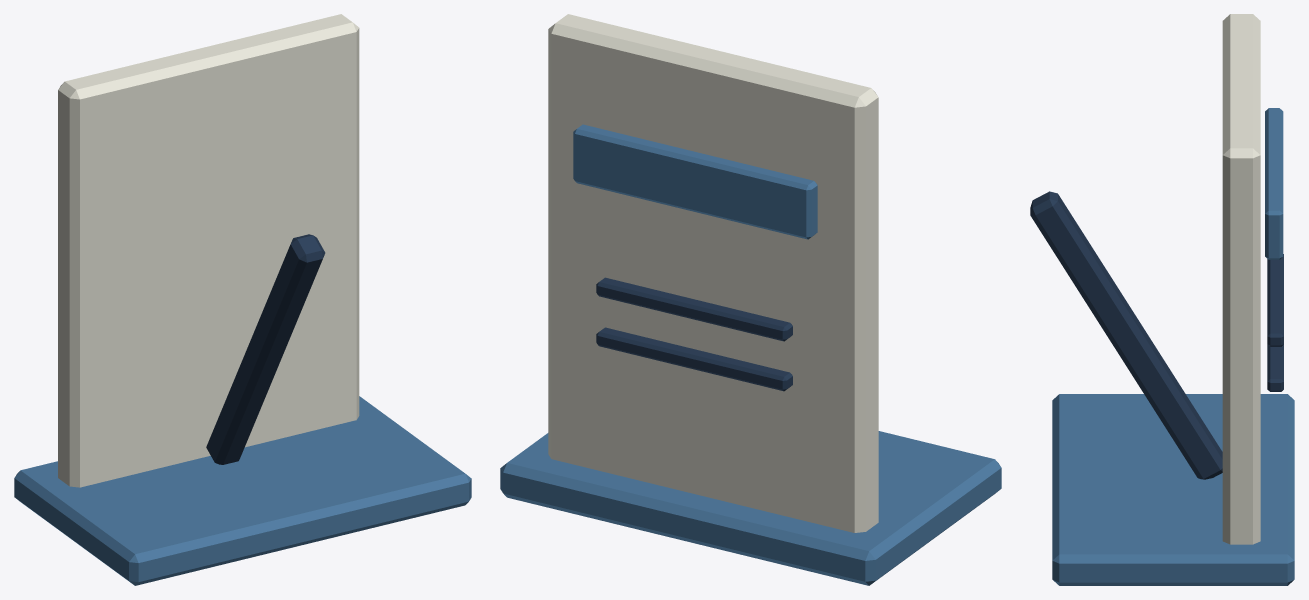
The model's file is countertop_menu_stand.glb.
The picture shows the model from 3 angles, left to right: view 1: azimuth 30°, elevation 25°; view 2: azimuth 150°, elevation 25°; view 3: azimuth 270°, elevation 25°; orthographic projection. The views are drawn at different scales.
Visible parts, largest first — view 1: menu_panel, menu_base, menu_rear_leg; view 2: menu_panel, menu_base, menu_panel_header, menu_panel_line (×2); view 3: menu_base, menu_panel, menu_rear_leg, menu_panel_header, menu_panel_line (×2).
Boxes of the visible parts, bbox=[...] form: menu_panel: bbox=[58, 14, 359, 487]; menu_base: bbox=[14, 396, 471, 585]; menu_rear_leg: bbox=[206, 234, 325, 464]; menu_panel: bbox=[548, 14, 878, 532]; menu_base: bbox=[500, 431, 1001, 585]; menu_panel_header: bbox=[573, 124, 817, 239]; menu_panel_line (×2): bbox=[596, 277, 792, 391]; menu_base: bbox=[1052, 394, 1294, 585]; menu_panel: bbox=[1222, 14, 1260, 544]; menu_rear_leg: bbox=[1030, 191, 1222, 479]; menu_panel_header: bbox=[1265, 108, 1283, 259]; menu_panel_line (×2): bbox=[1267, 254, 1283, 391].
Size of the model in its own units: 0.26 by 0.3095 by 0.1746.
